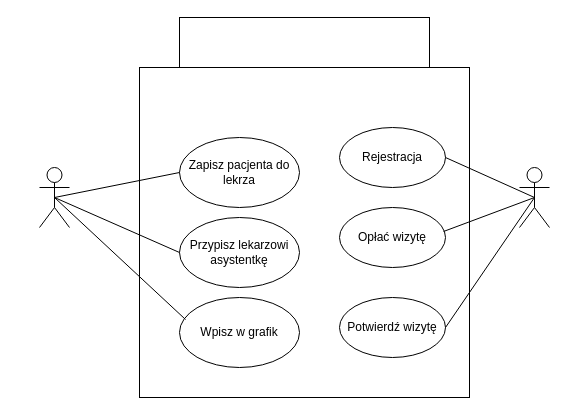
Image size: 572x415. Some labels were removed from this diagram. Each missing label, with the centre of its shape:
"Pacjent" goes at point (534, 197).
"Recepjonistka" goes at point (54, 197).
"Rejestracja wizyty" goes at point (304, 42).
